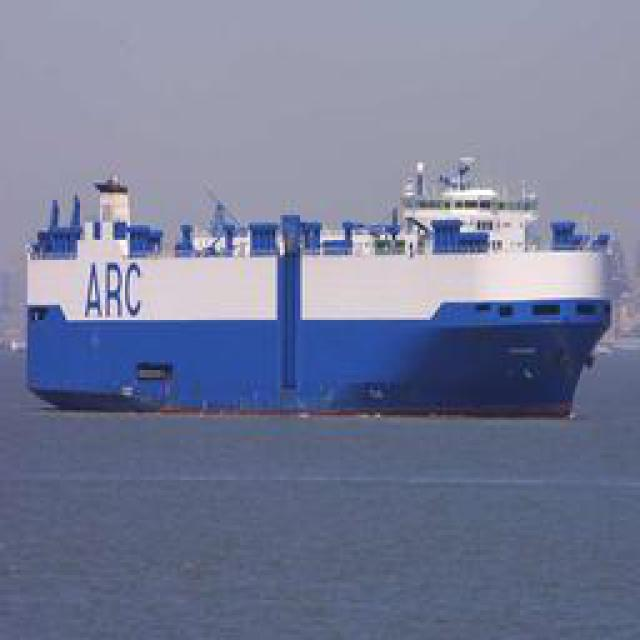Ship: (20, 146, 623, 426)
